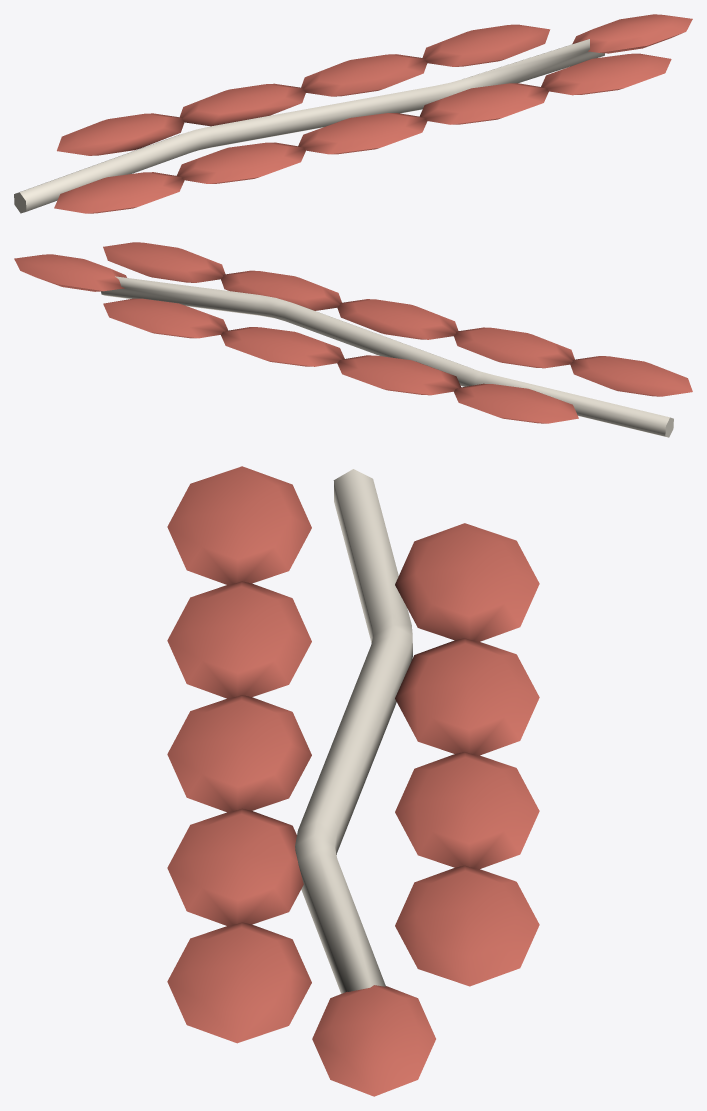
The model's file is forage_sprig.glb.
3 views of the same model, one above another, from view 1: azimuth 30°, elevation 25°; view 2: azimuth 150°, elevation 25°; view 3: azimuth 270°, elevation 25° (orthographic). The views are drawn at different scales.
Visible parts, largest first — view 1: PART; view 2: PART; view 3: PART.
Boxes of the visible parts, box(x1,y1,x2,y2) form: PART: box(14, 14, 692, 213); PART: box(14, 242, 692, 437); PART: box(167, 466, 539, 1096).
Size of the model in its own units: 0.1454 by 0.00736 by 0.036.
